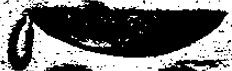Basket: (5, 2, 228, 70)
